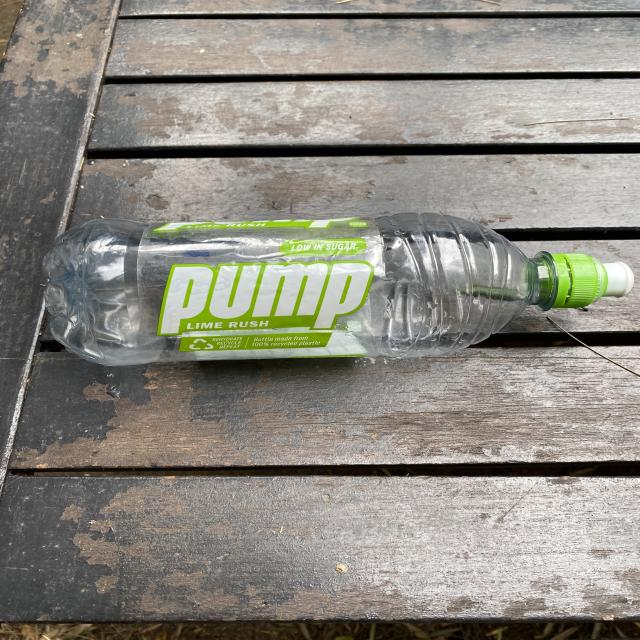bottle: (41, 211, 635, 367)
